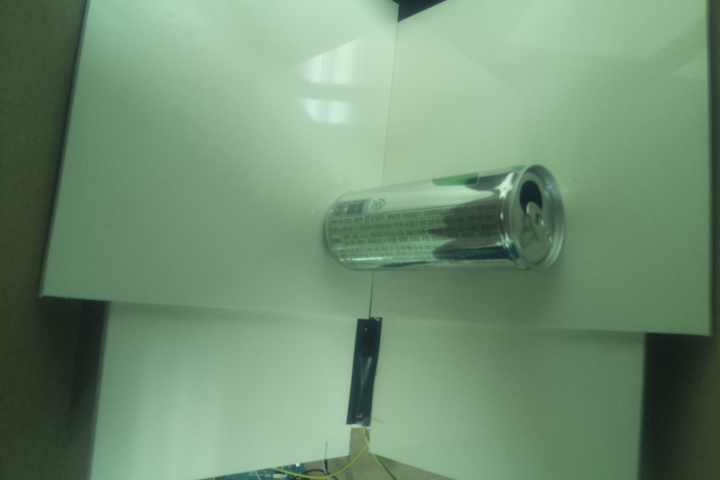can: (321, 165, 566, 275)
